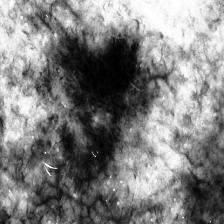Benign Marking or Mole: (62, 34, 154, 122)
